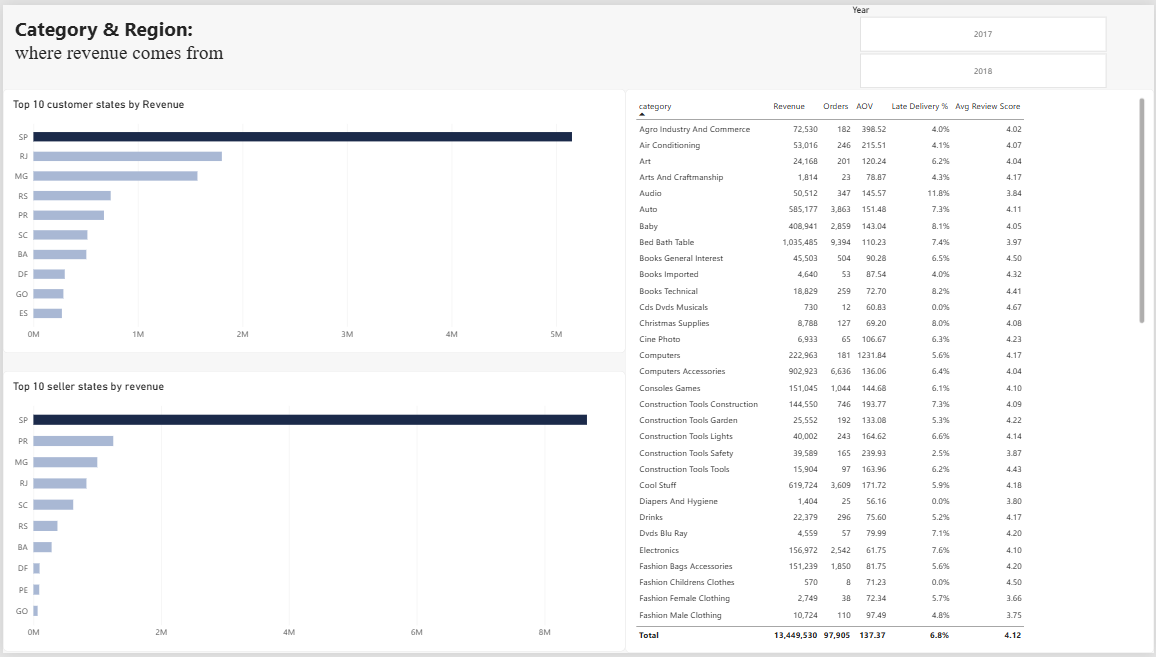

This screenshot's page, from the dashboard's own definition file:
{"tool":"powerbi","page":{"name":"Category and Region","canvas":[1920,1080],"ordinal":1},"visuals":[{"type":"clusteredBarChart","title":"Top 10 customer states by Revenue","fields":{"Category":["vw_dim_customer.customer_state"],"Y":["Date.Revenue"]},"box":[0,140,1037.5,440],"z":0},{"type":"clusteredBarChart","title":"Top 10 seller states by revenue","fields":{"Category":["vw_dim_seller.seller_state"],"Y":["Date.Revenue"]},"box":[0,610,1037.5,467.5],"z":1000},{"type":"tableEx","fields":{"Values":["vw_dim_product.category","Date.Revenue","Date.Orders","Date.AOV","Date.Late Delivery %","Date.Avg Review Score"]},"box":[1037.5,140,882.5,940],"z":2000},{"type":"slicer","fields":{"Values":["Date.Year"]},"box":[1407.5,0,450,140],"z":3000},{"type":"textbox","box":[20,17.5,777.5,122.5],"z":4000}]}

Visuals, with their boxes in screenshot pixels (x1, y1, x2, y2), scaled from the page's 1920x1080 canvas onto the 1156x657 screenshot:
"Top 10 customer states by Revenue" clusteredBarChart: 0 85 625 353
"Top 10 seller states by revenue" clusteredBarChart: 0 371 625 655
tableEx - vw_dim_product.category x Date.Revenue: 625 85 1155 656
slicer - Date.Year: 847 0 1118 85
textbox: 12 11 480 85
